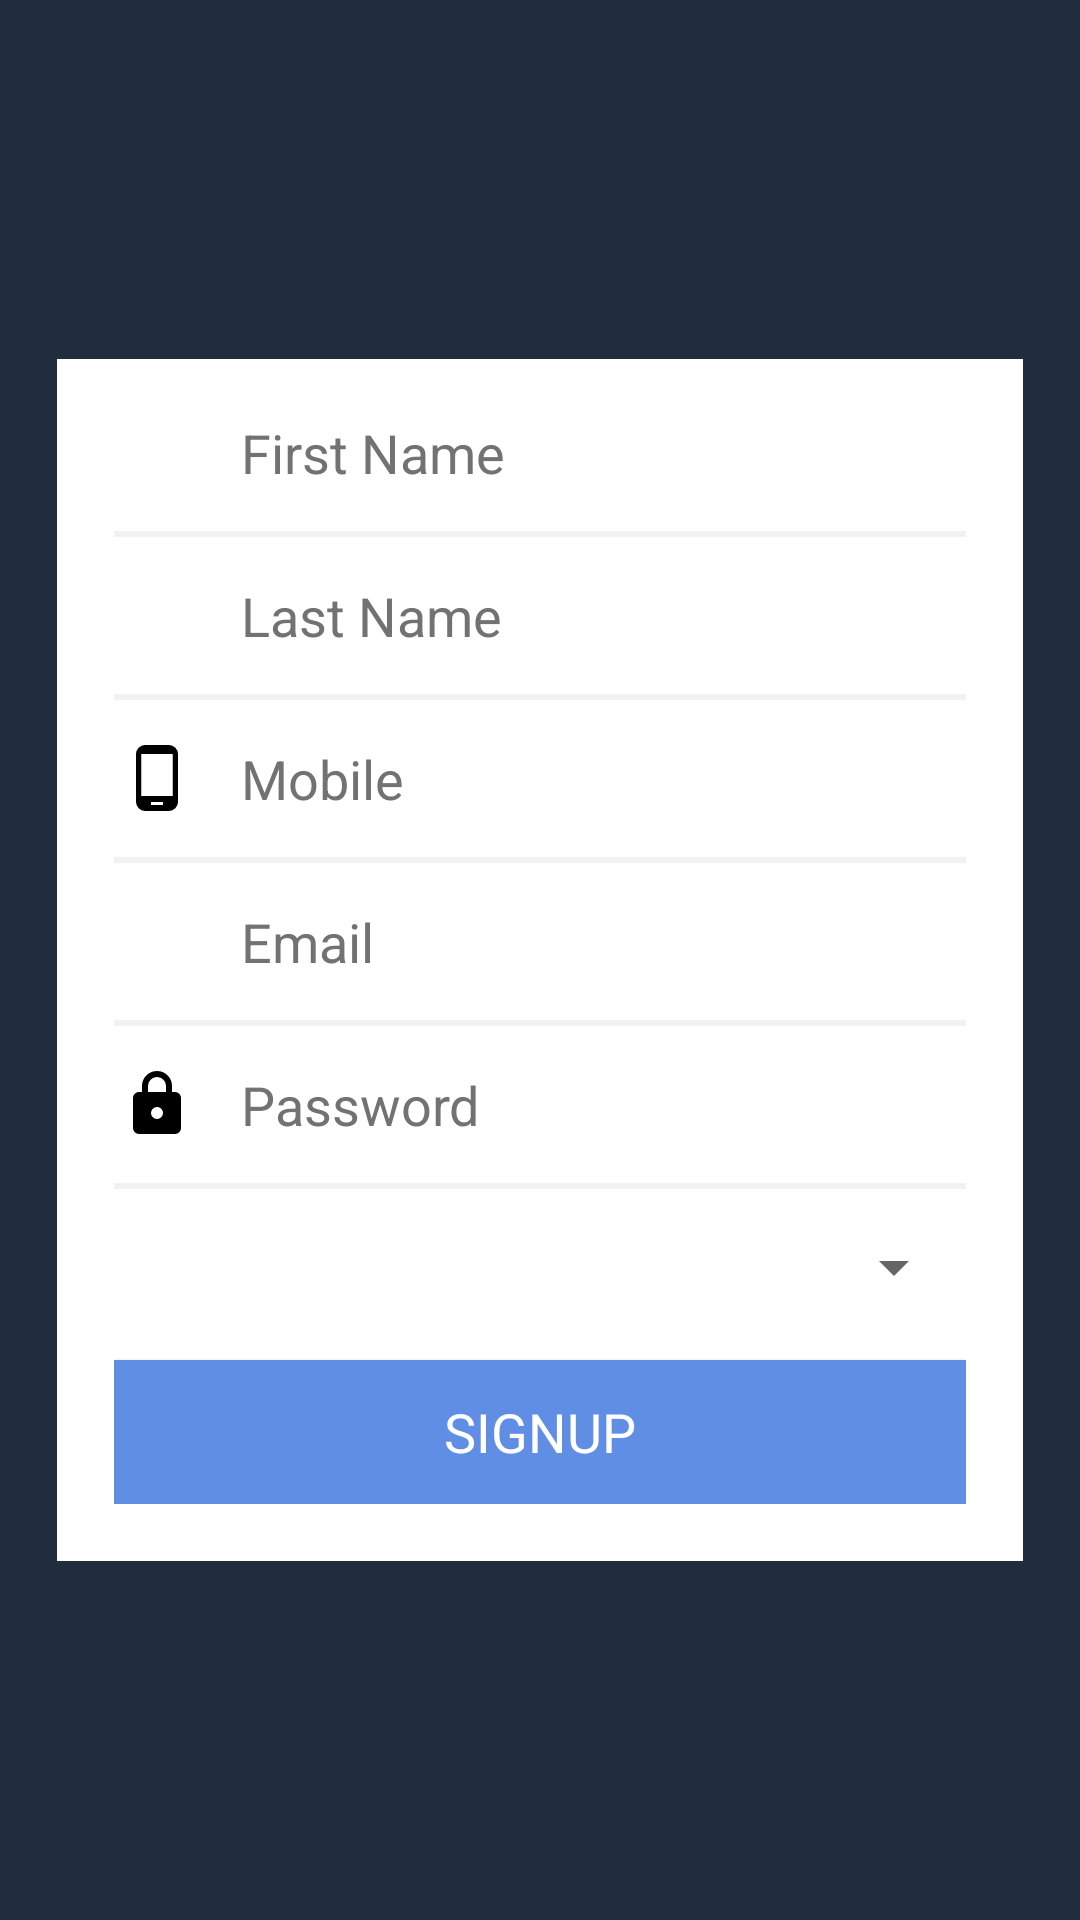

Screen size 1080x1920. Icon name, then its center in pixels as (x,y):
auth edt pass: (157,1102)
